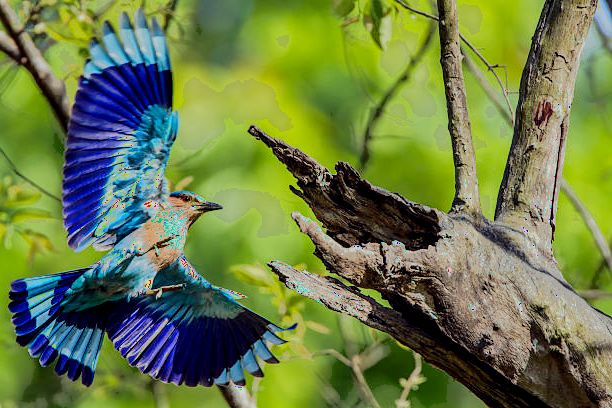Bird: (7, 10, 298, 394)
